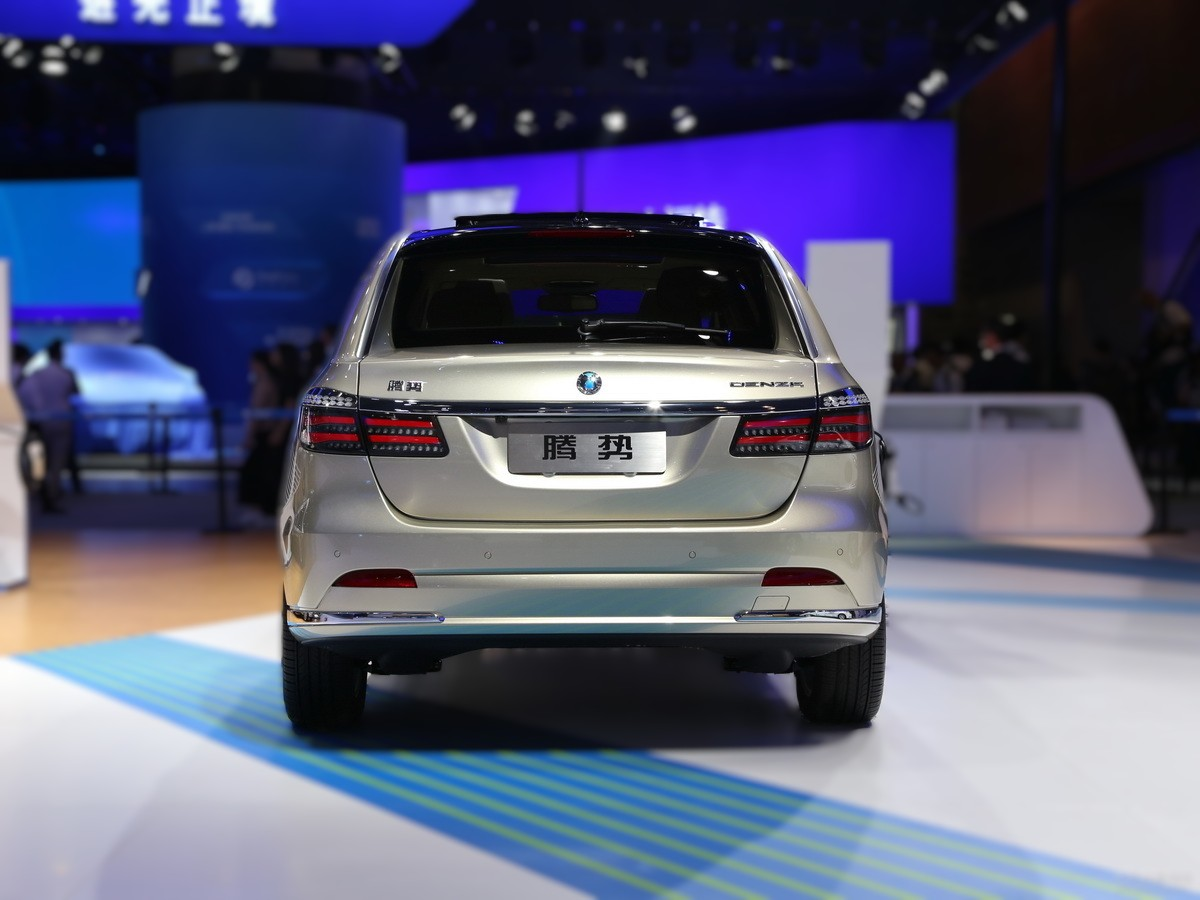DENZA: (577, 371, 601, 394)
